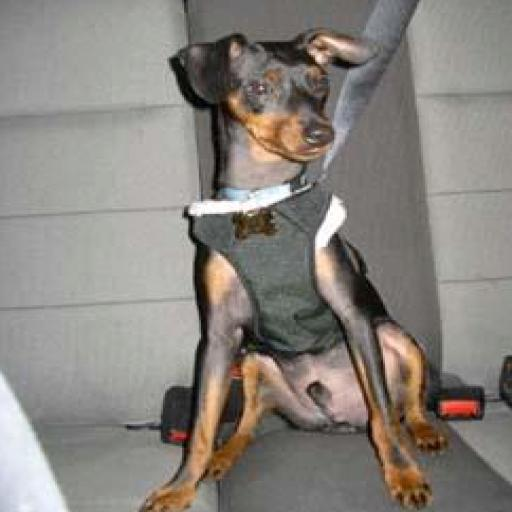dog_face: (168, 23, 363, 158)
